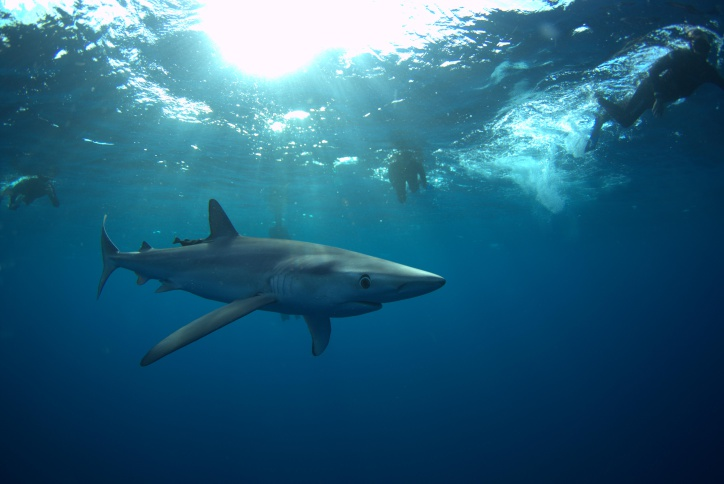Azul: (75, 178, 464, 403)
